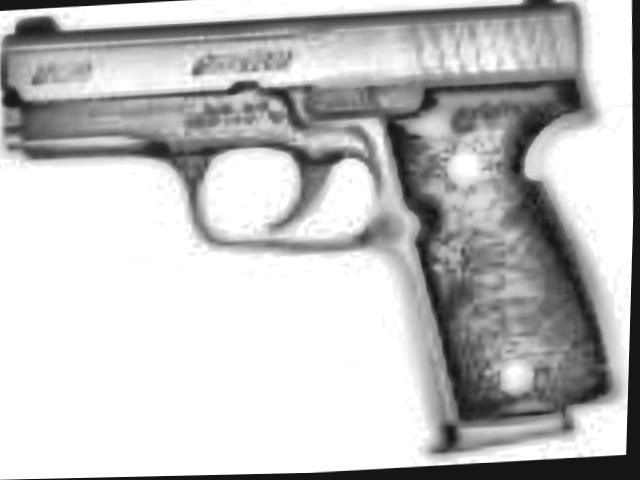pistol: (0, 0, 632, 478)
